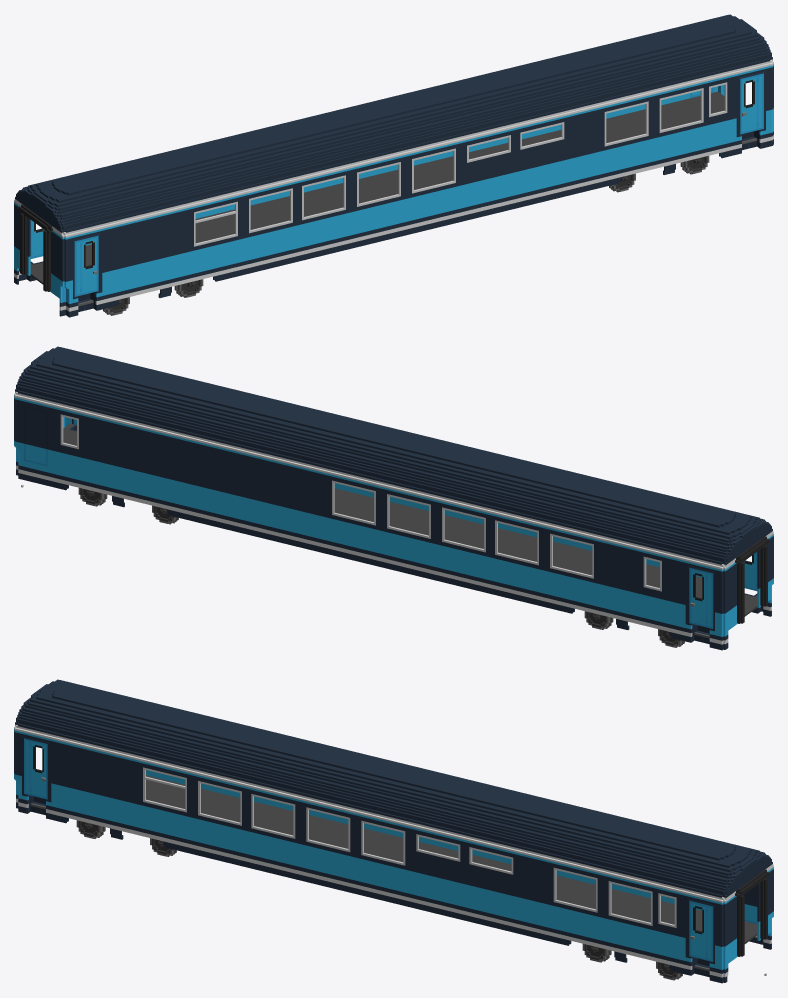
File: wcb61848870.obj
3 renders of one model, top to bottom at view 1: azimuth 30°, elevation 25°; view 2: azimuth 150°, elevation 25°; view 3: azimuth 330°, elevation 25°, orthographic.
Visible parts, largest first — view 1: FRAME_2, FRAME_1, INTERIOR_LCG_il_LINVERT_2, INTERIOR_LCG_il_LINVERT_1; view 2: FRAME_1, FRAME_2, INTERIOR_LCG_il_LINVERT_1, INTERIOR_LCG_il_LINVERT_2; view 3: FRAME_1, FRAME_2, INTERIOR_LCG_il_LINVERT_1, INTERIOR_LCG_il_LINVERT_2.
Boxes of the visible parts, box(x1,y1,x2,y2) form: FRAME_2: box(14, 102, 406, 317); FRAME_1: box(359, 14, 773, 234); INTERIOR_LCG_il_LINVERT_2: box(359, 91, 724, 197); INTERIOR_LCG_il_LINVERT_1: box(30, 181, 381, 284); FRAME_1: box(14, 346, 428, 566); FRAME_2: box(381, 434, 773, 650); INTERIOR_LCG_il_LINVERT_1: box(406, 513, 757, 616); INTERIOR_LCG_il_LINVERT_2: box(63, 423, 428, 529); FRAME_1: box(355, 761, 773, 983); FRAME_2: box(14, 679, 403, 893); INTERIOR_LCG_il_LINVERT_1: box(146, 775, 403, 856); INTERIOR_LCG_il_LINVERT_2: box(380, 840, 757, 943).
Bounding box in the file's own units: 24.62 × 4.19 × 3.12.
Materials: 1 (1 with a texture image).
